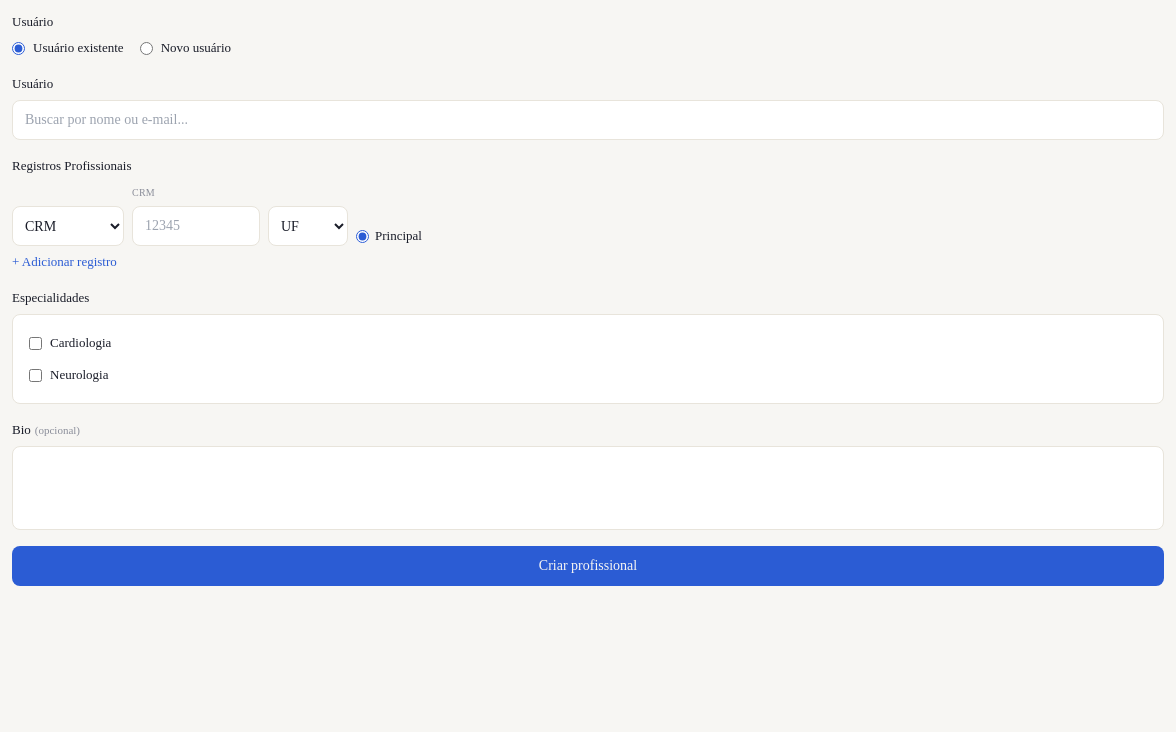
Test: ProfessionalForm (integration) — create mode › adds and removes registration rows
Click the button with test id "professional-form-registration-add".
click(64, 262)  # box [12,252,117,272]
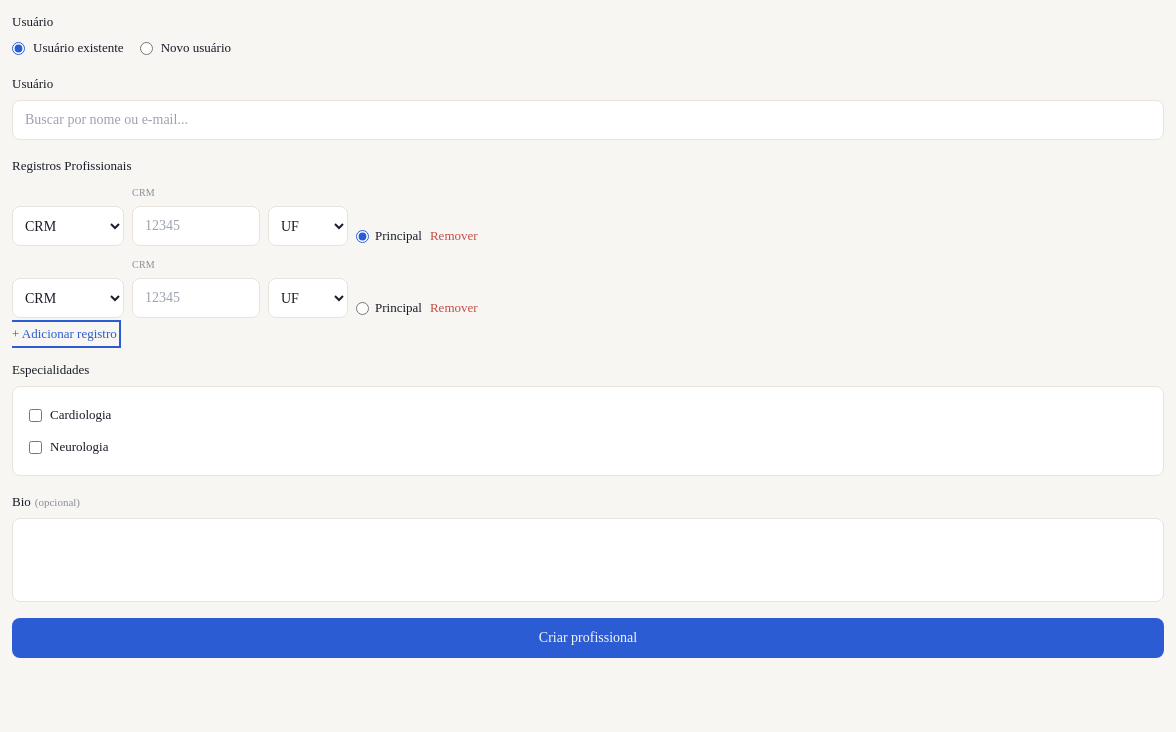
Now the field with test id "professional-form-registration-number-1" is shown, box [132,278,260,318]
Now the radio button with test id "professional-form-registration-primary-1" is not checked, box [356,302,369,314]
Click the button with test id "professional-form-registration-remove-1".
click(454, 308)  # box [430,298,478,318]
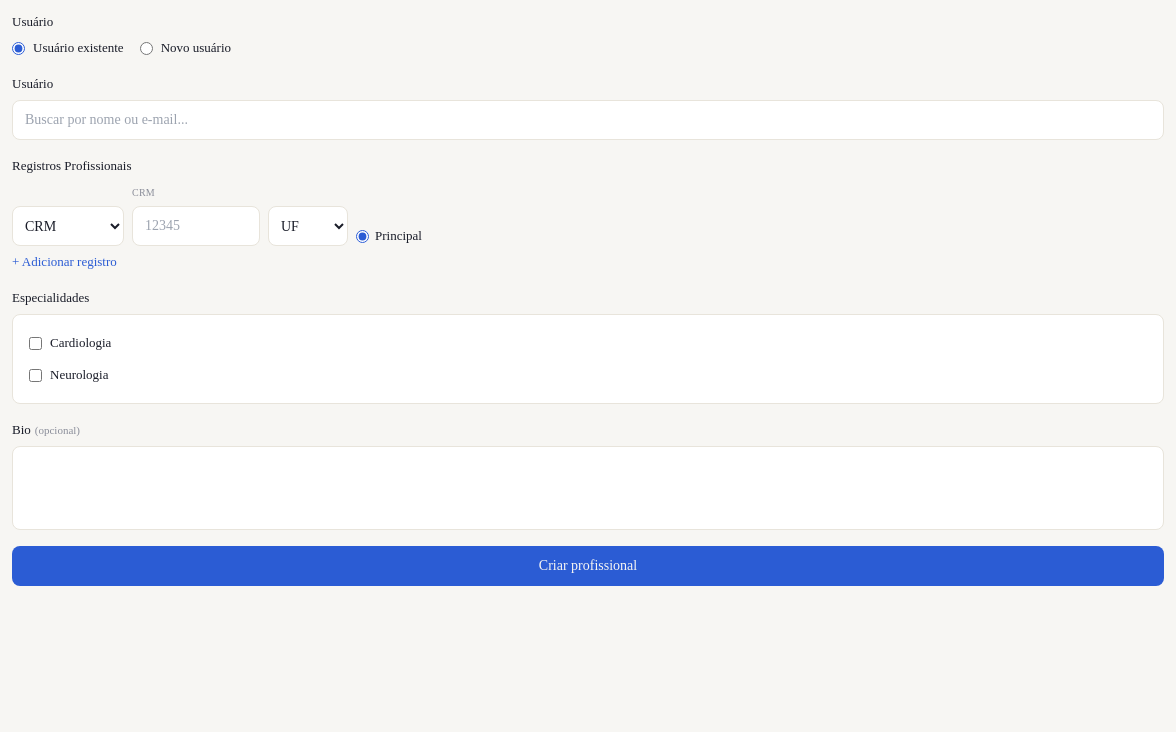
Now the label with test id "professional-form-registration-number-1" is gone
